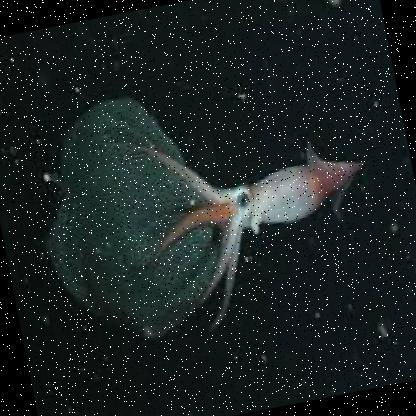colossal_squid: (110, 102, 396, 354)
